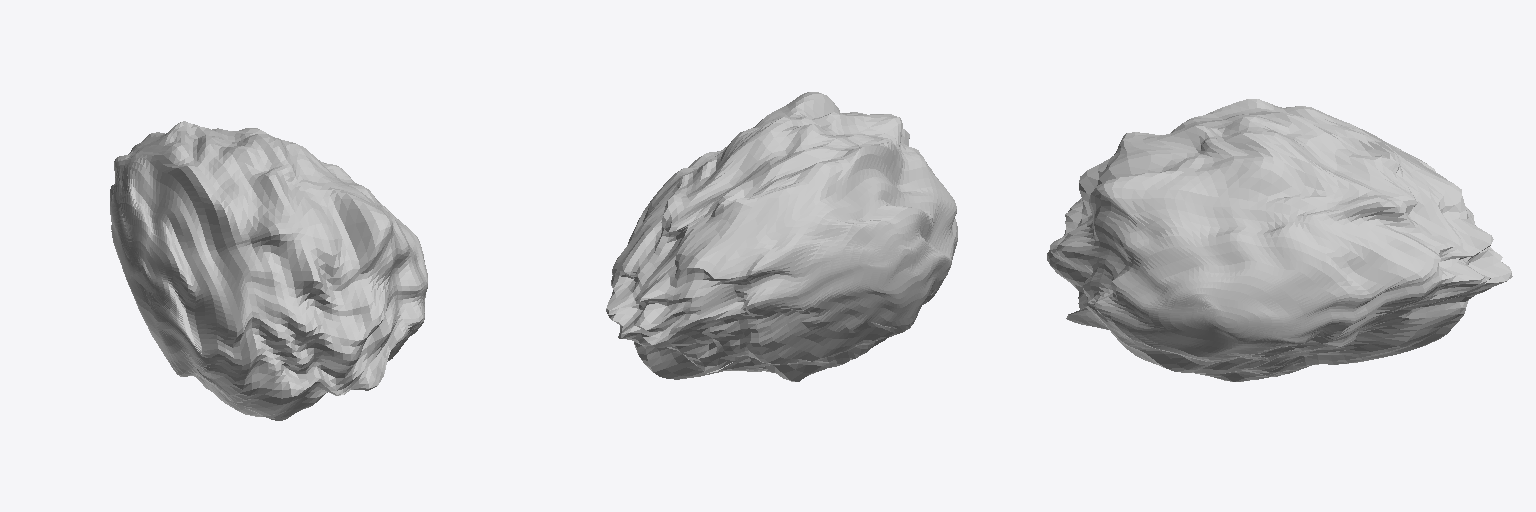
Rendered from meteor.obj.
3 renders of one model, left to right at view 1: azimuth 30°, elevation 25°; view 2: azimuth 150°, elevation 25°; view 3: azimuth 270°, elevation 25°, orthographic.
Visible parts, largest first — view 1: Mesh_Mesh_Sphere01; view 2: Mesh_Mesh_Sphere01; view 3: Mesh_Mesh_Sphere01.
Boxes of the visible parts, <box> form: Mesh_Mesh_Sphere01: <box>110,121,427,420</box>; Mesh_Mesh_Sphere01: <box>606,92,957,381</box>; Mesh_Mesh_Sphere01: <box>1047,99,1512,381</box>.
Bounding box in the file's own units: 2.44 × 2.32 × 3.88.